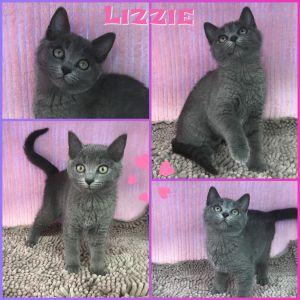rblue: (65, 128, 131, 195)
